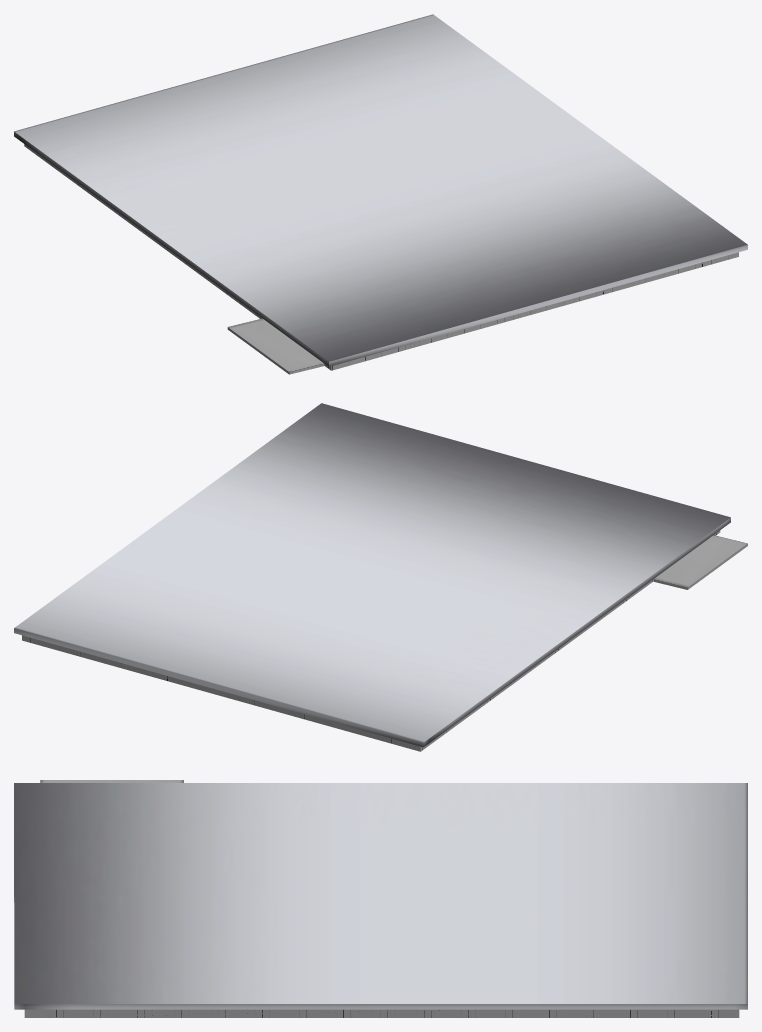
File: F&F-ROOF.glb
The picture shows the model from 3 angles, top to bottom: view 1: azimuth 30°, elevation 25°; view 2: azimuth 150°, elevation 25°; view 3: azimuth 270°, elevation 25°; orthographic projection. The views are drawn at different scales.
Visible parts, largest first — view 1: F&F-ROOF; view 2: F&F-ROOF; view 3: F&F-ROOF.
Boxes of the visible parts, x1,y1,x2,y2 form: F&F-ROOF: (14, 14, 747, 374); F&F-ROOF: (14, 403, 747, 751); F&F-ROOF: (14, 780, 747, 1017).
Bounding box in the file's own units: 46.12 × 2.84 × 56.2.
2 materials, 2 textured.
